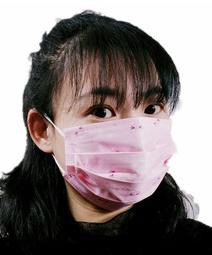OK: (60, 76, 172, 208)
